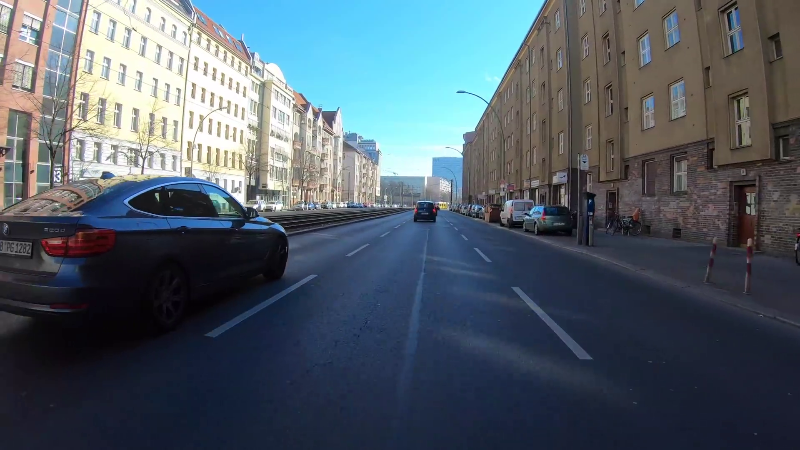Plate: (2, 238, 34, 260)
